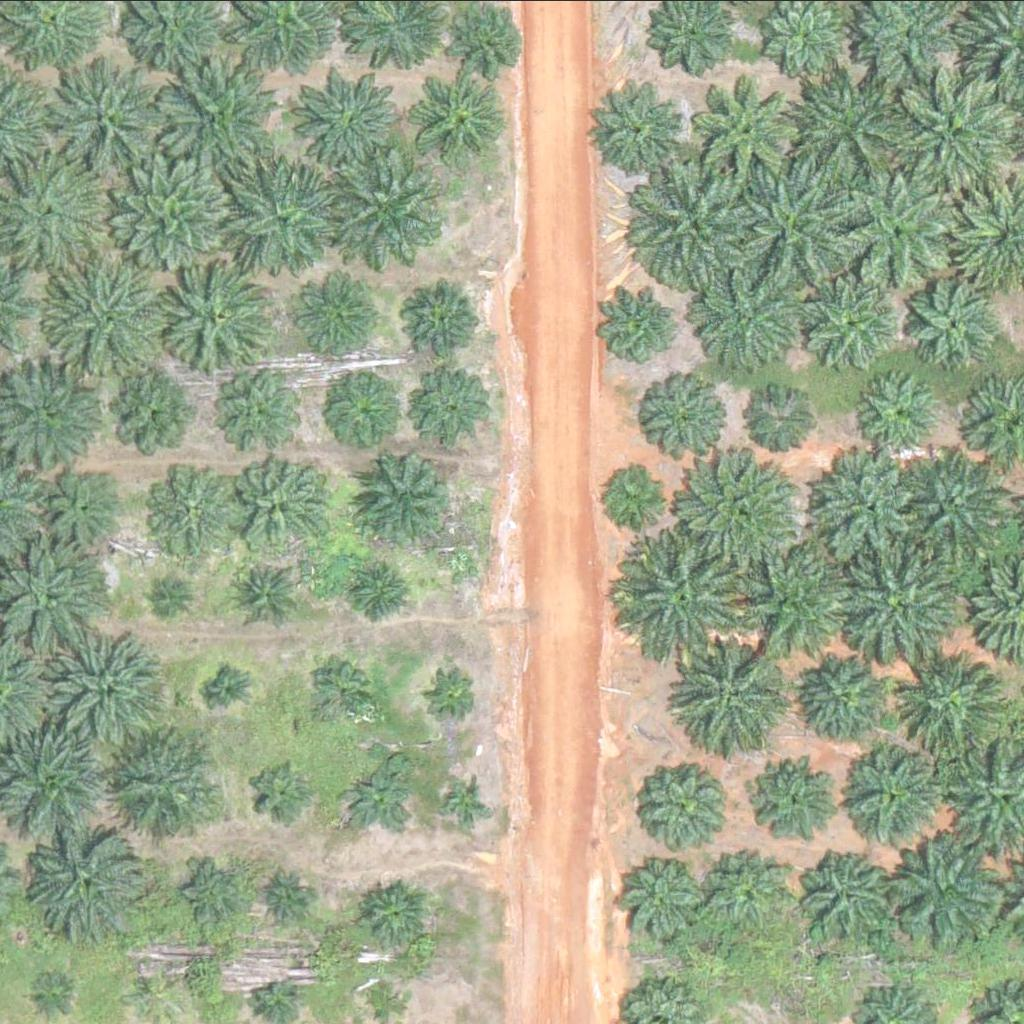Kelapa_Sawit: (892, 62, 1018, 187), (632, 163, 758, 288), (627, 533, 753, 658), (25, 819, 151, 944), (726, 159, 851, 284), (682, 445, 796, 558), (895, 649, 1009, 762), (839, 170, 952, 283), (687, 256, 800, 369), (745, 542, 858, 655), (846, 551, 959, 664), (50, 67, 163, 180), (324, 154, 437, 267), (156, 264, 269, 377), (48, 636, 161, 749), (105, 732, 218, 845), (892, 839, 1006, 951), (792, 70, 905, 182), (897, 446, 1010, 558), (810, 451, 923, 563), (154, 59, 267, 171), (300, 63, 413, 175), (109, 160, 222, 272), (224, 164, 337, 276), (46, 262, 159, 374), (701, 75, 802, 175), (590, 77, 691, 177), (788, 640, 889, 740), (632, 756, 733, 856), (355, 451, 456, 551), (686, 645, 786, 745), (842, 743, 942, 843), (795, 847, 895, 947), (644, 373, 733, 461), (802, 282, 890, 370), (856, 372, 944, 460), (748, 761, 836, 849), (412, 79, 500, 167), (146, 468, 234, 556), (240, 460, 328, 548), (598, 282, 686, 369), (906, 281, 994, 368), (703, 842, 791, 929), (620, 854, 708, 941), (293, 275, 381, 362), (116, 373, 192, 448), (749, 384, 825, 459), (409, 279, 485, 354), (231, 371, 307, 446), (413, 368, 489, 443), (49, 475, 125, 550), (357, 876, 432, 951), (339, 760, 414, 835), (336, 383, 399, 446), (354, 559, 417, 622), (601, 462, 664, 525), (309, 664, 372, 727), (453, 9, 516, 72), (182, 861, 245, 923), (251, 757, 314, 819), (431, 671, 482, 721), (260, 867, 311, 917), (440, 778, 491, 828), (20, 969, 71, 1019), (117, 970, 168, 1020), (239, 569, 289, 619), (150, 573, 188, 611), (212, 669, 250, 706)
